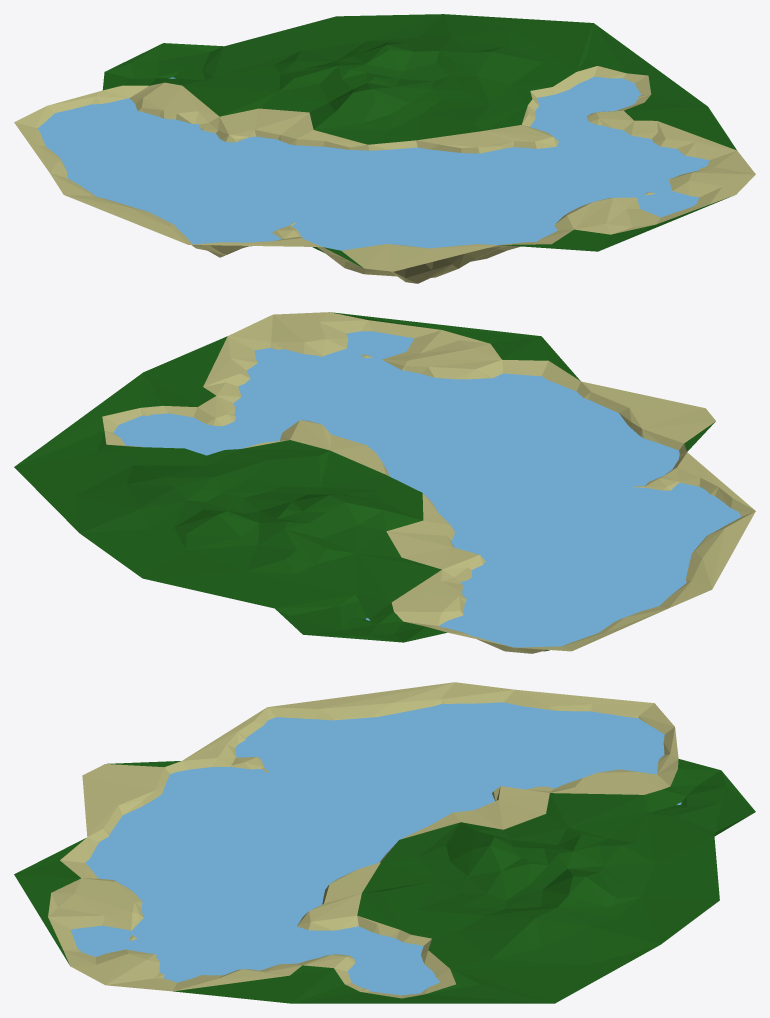
File: Lake.fbx
3 renders of one model, top to bottom at view 1: azimuth 30°, elevation 25°; view 2: azimuth 150°, elevation 25°; view 3: azimuth 270°, elevation 25°, orthographic. The views are drawn at different scales.
Parts seen in each view (by area): view 1: Landscape.001, Plane; view 2: Landscape.001, Plane; view 3: Landscape.001, Plane.
Part boxes in pixels (bbox=[...]): Landscape.001: bbox=[14, 14, 755, 283]; Plane: bbox=[37, 76, 709, 250]; Landscape.001: bbox=[14, 312, 755, 653]; Plane: bbox=[113, 331, 741, 647]; Landscape.001: bbox=[14, 682, 755, 1003]; Plane: bbox=[70, 702, 681, 995].
Bounding box in the file's own units: 133 × 20.03 × 130.
